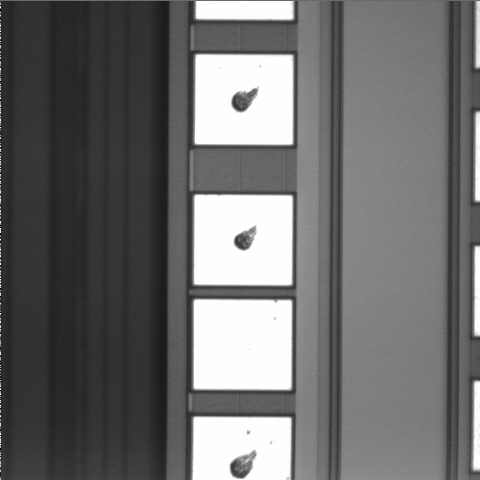pad: (195, 54, 293, 145), (194, 299, 292, 390), (194, 195, 293, 285)
